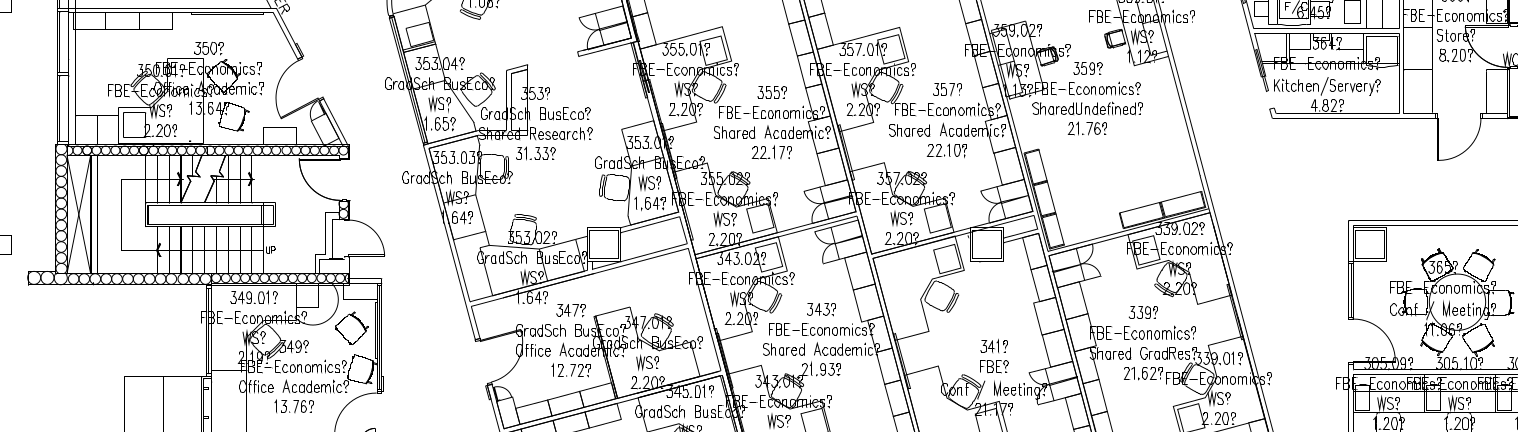door: (264, 54, 317, 128), (476, 323, 532, 385), (1346, 313, 1398, 367), (1430, 117, 1482, 171), (289, 157, 343, 207), (346, 215, 400, 265), (1465, 23, 1515, 70)
